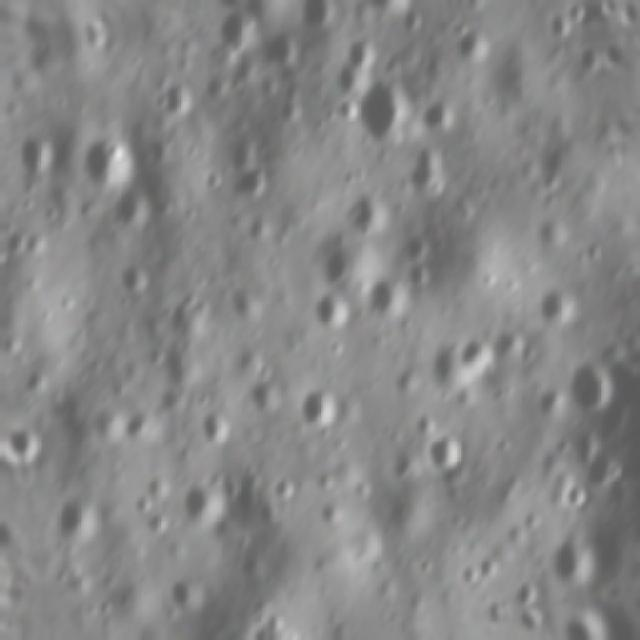crater: (220, 135, 286, 202), (350, 80, 410, 145), (134, 75, 200, 130), (555, 530, 602, 590), (567, 358, 615, 416), (252, 24, 306, 74), (49, 494, 106, 540), (84, 138, 134, 190), (179, 479, 227, 533), (418, 429, 467, 477), (165, 570, 209, 619), (296, 386, 341, 432), (303, 286, 346, 334), (338, 194, 388, 234), (258, 474, 304, 515), (451, 335, 494, 377), (534, 288, 580, 327), (246, 369, 285, 411), (354, 0, 426, 22), (115, 256, 150, 299), (110, 190, 148, 227), (188, 413, 232, 444), (122, 407, 153, 448), (402, 229, 440, 262), (15, 434, 43, 478), (365, 282, 397, 320), (19, 135, 52, 171), (300, 0, 334, 34), (513, 574, 541, 611), (560, 488, 592, 520), (398, 264, 432, 294), (137, 512, 165, 546), (544, 430, 570, 464), (147, 467, 175, 498), (454, 34, 486, 60), (599, 578, 627, 596), (131, 500, 154, 518), (452, 616, 478, 622), (294, 638, 334, 640)
